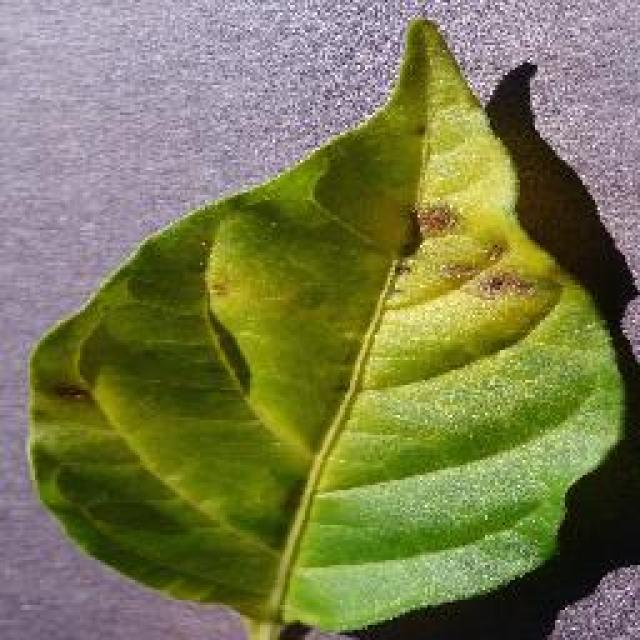Chilli_Bacterial_Spot: (20, 12, 632, 638), (385, 198, 537, 312), (467, 265, 535, 305), (408, 198, 460, 242), (267, 618, 375, 638), (48, 375, 92, 407), (268, 618, 320, 638)
